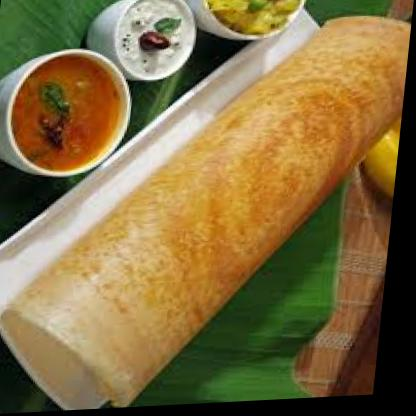dosa: (0, 19, 413, 415)
